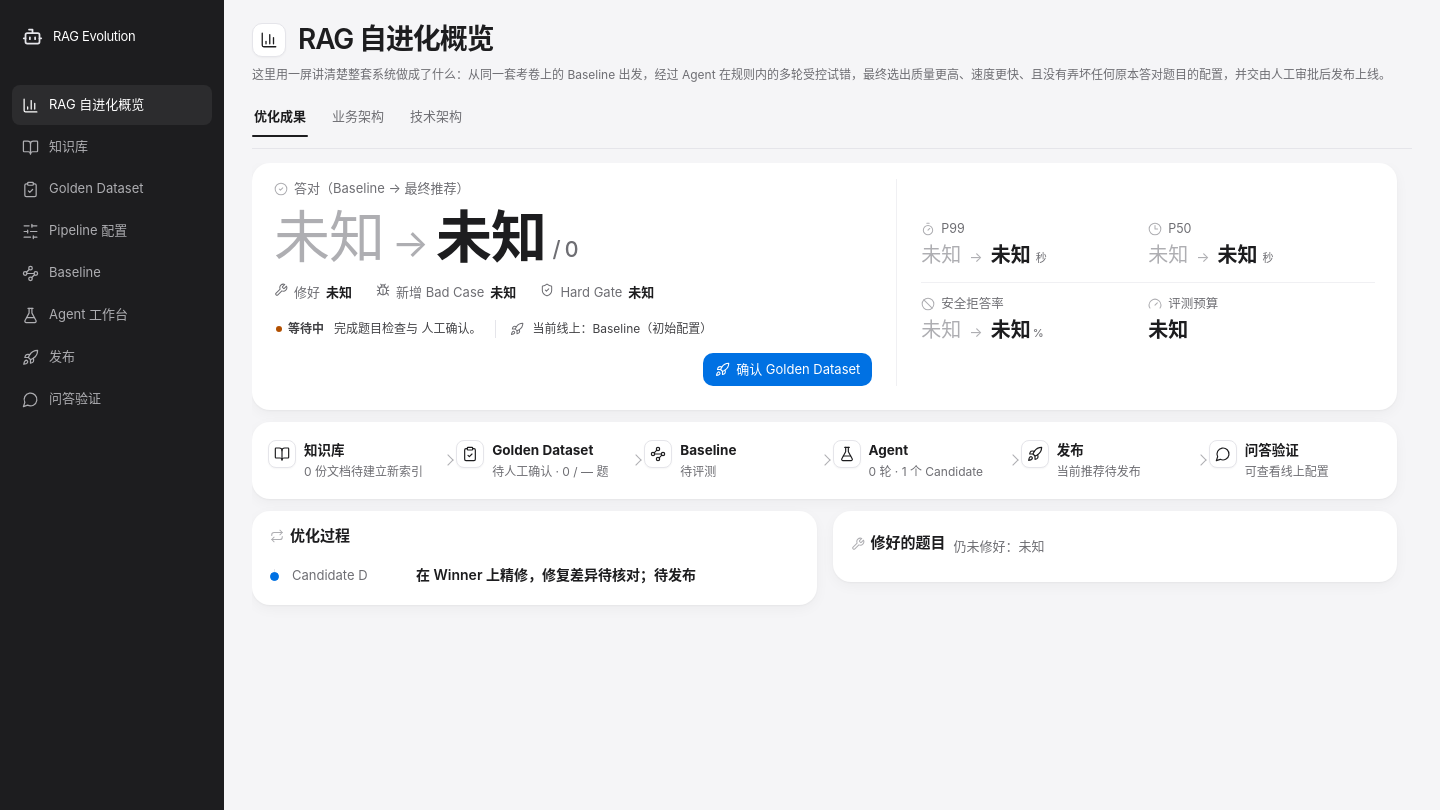
Test: warms page content before complete Before/After using only GETs, then opens both without waiting for revalidation (overview)
The image size is (1440, 810).
Later steps or results of the test are not shown.
Click the link with id "evolution" at (75,315), box [22,306,128,324]
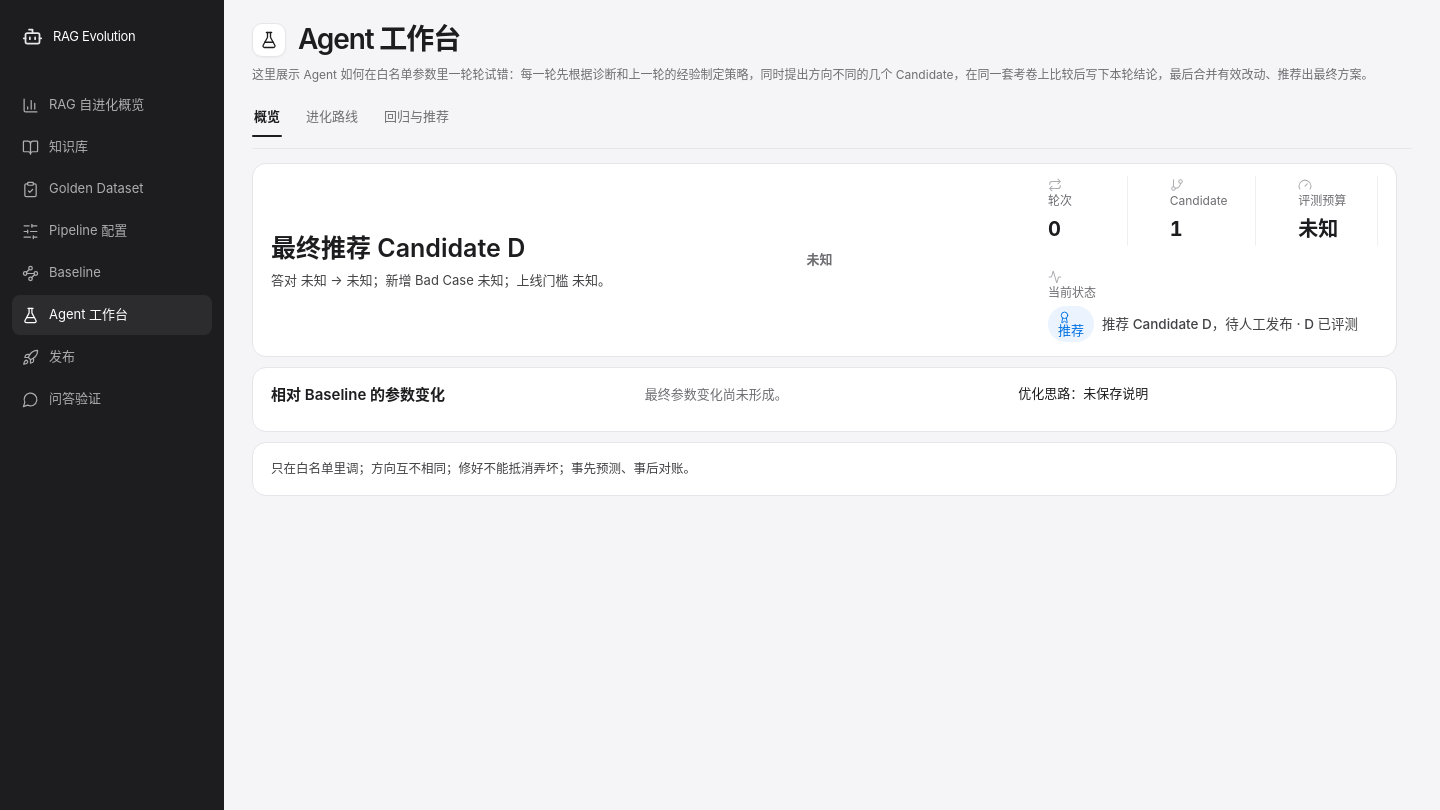
Expected: the element with class "agent-overview" is shown, [252,163,1397,496]
Click the button "进化路线" at (332,116), box [304,96,360,136]
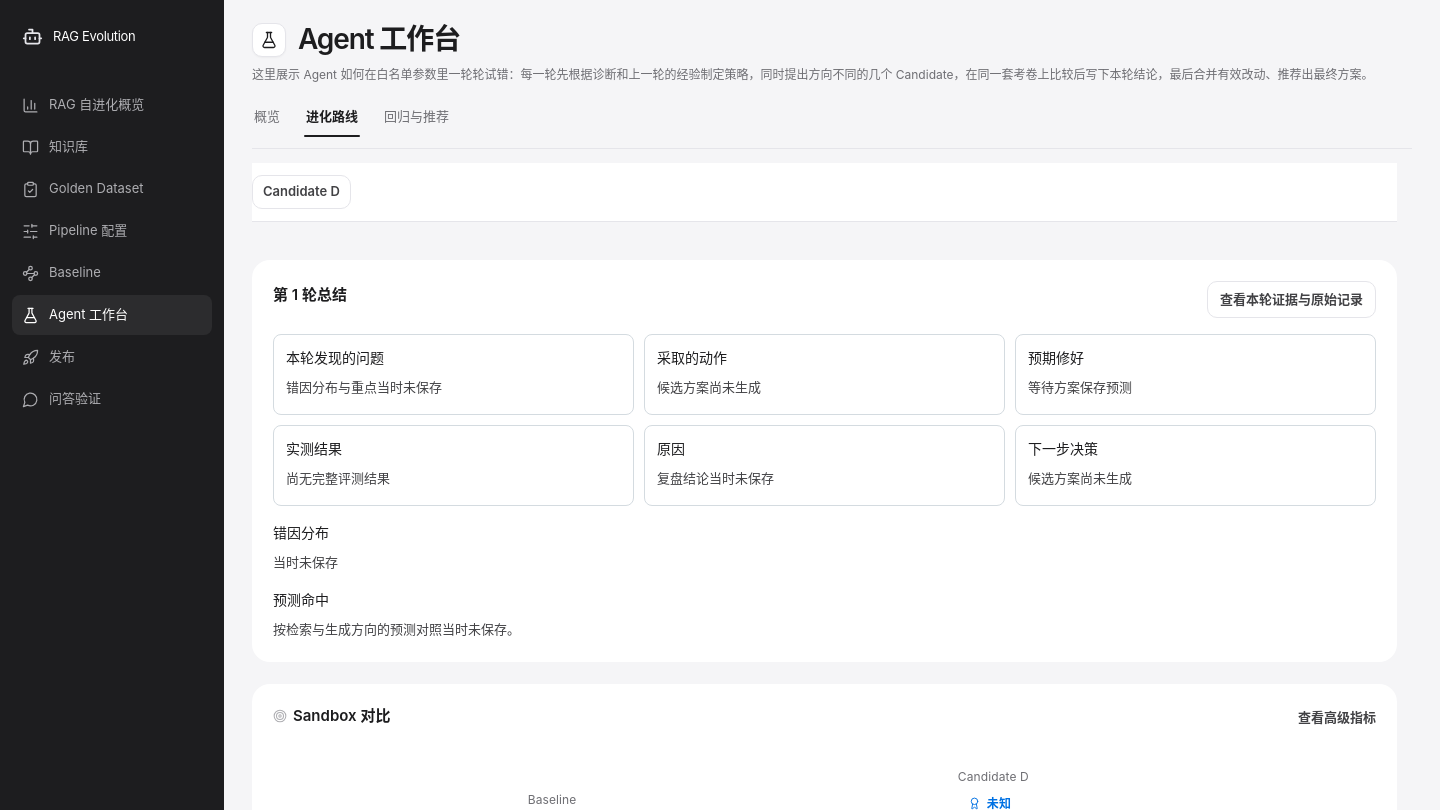
Click the button "回归与推荐" at (416,116), box [382,96,451,136]
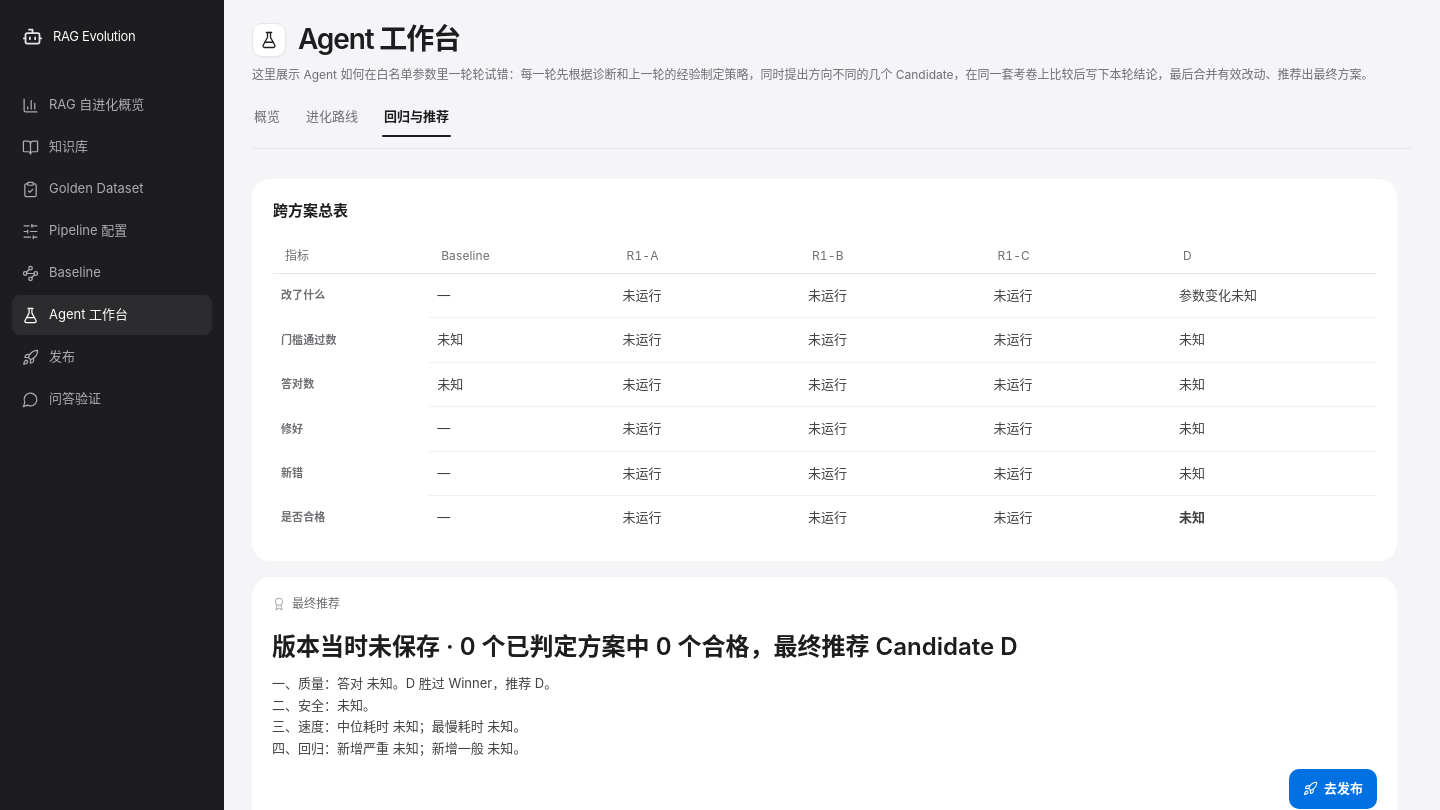
Click the link with id "governance" at (83,189), box [22,180,144,198]
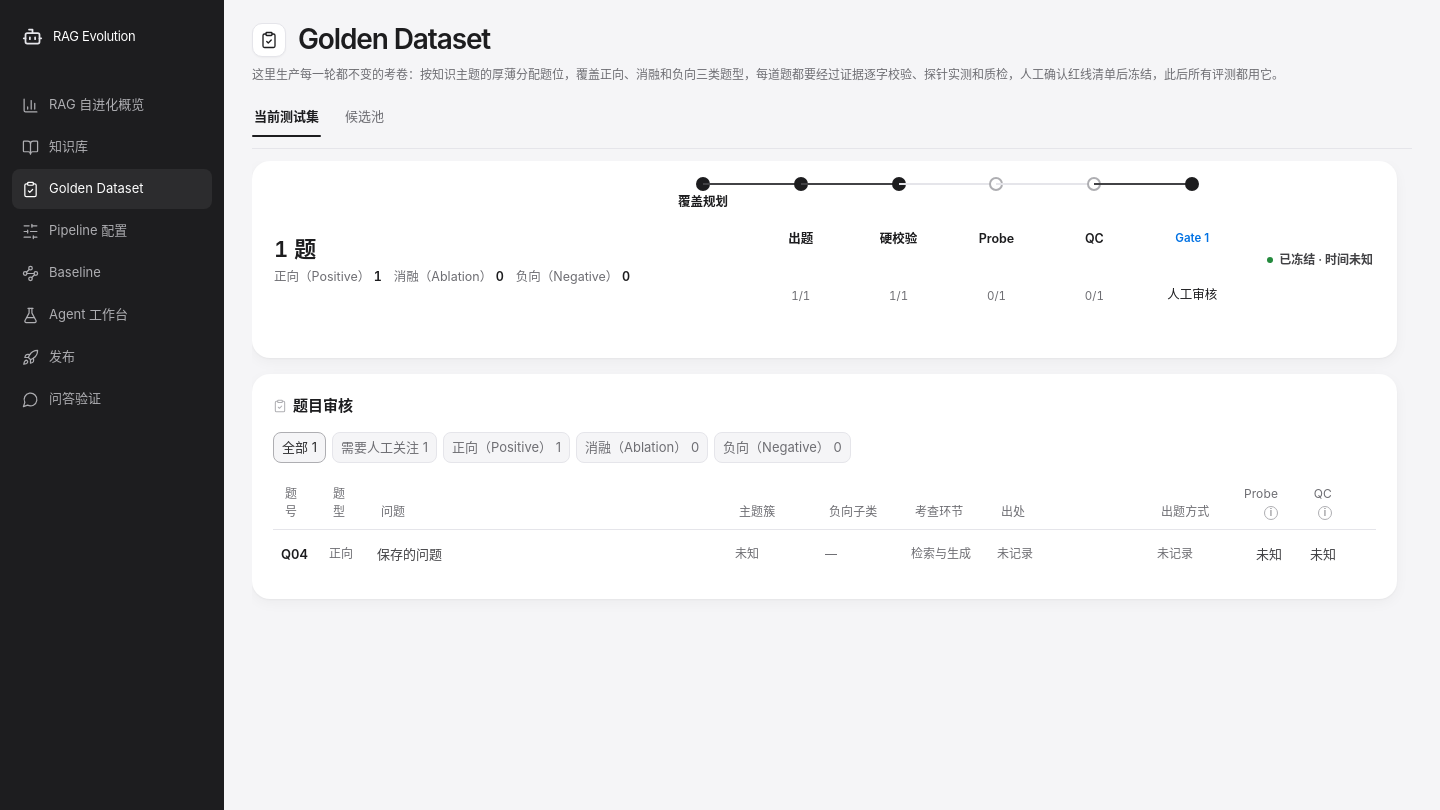
Expected: the element with class "review-table" shows "保存的问题", [377,546,442,562]
